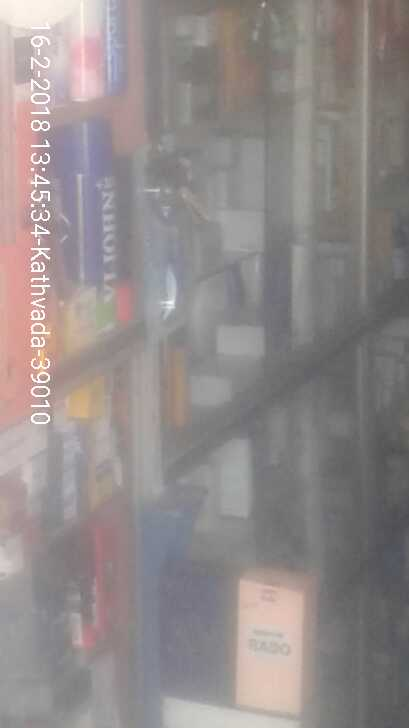reject: (253, 347, 347, 456)
